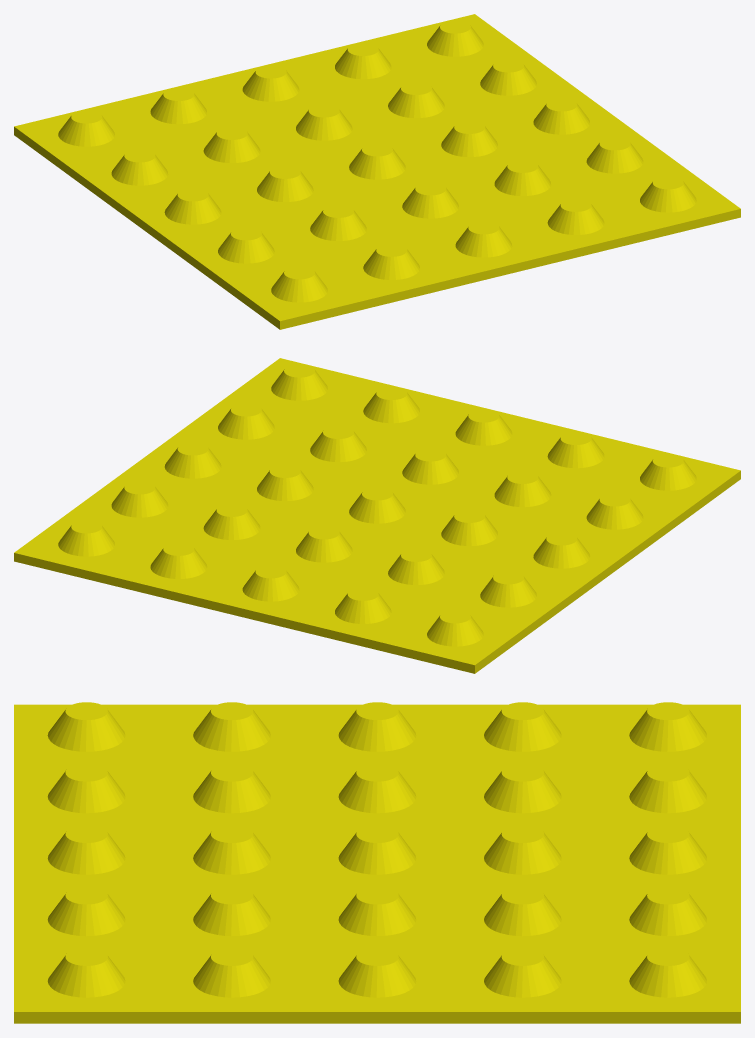
Rendered from tenzimaru.fbx.
The picture shows the model from 3 angles, top to bottom: view 1: azimuth 30°, elevation 25°; view 2: azimuth 150°, elevation 25°; view 3: azimuth 270°, elevation 25°; orthographic projection. The views are drawn at different scales.
Parts seen in each view (by area): view 1: Plane; view 2: Plane; view 3: Plane.
Part boxes in pixels (left/top/right/bottom): Plane: left=14, top=14, right=740, bottom=329; Plane: left=14, top=358, right=740, bottom=673; Plane: left=14, top=702, right=740, bottom=1023.
Bounding box in the file's own units: 500 × 27.38 × 500.
